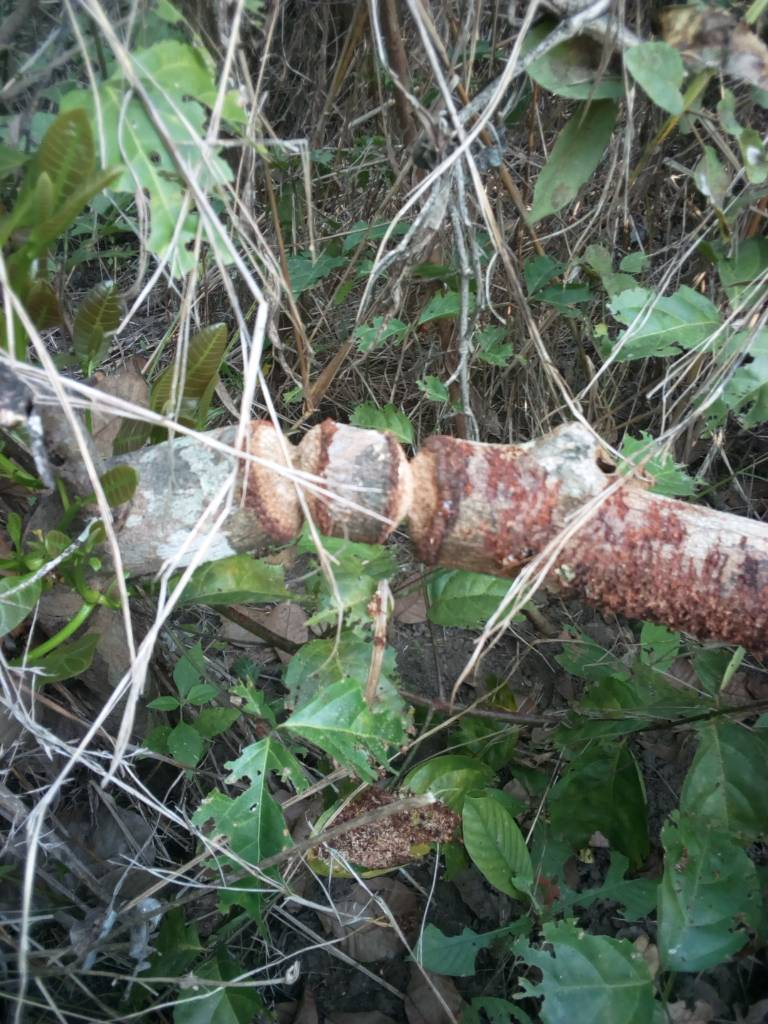Analepse trifasciata: (383, 413, 496, 575), (225, 408, 340, 563)
